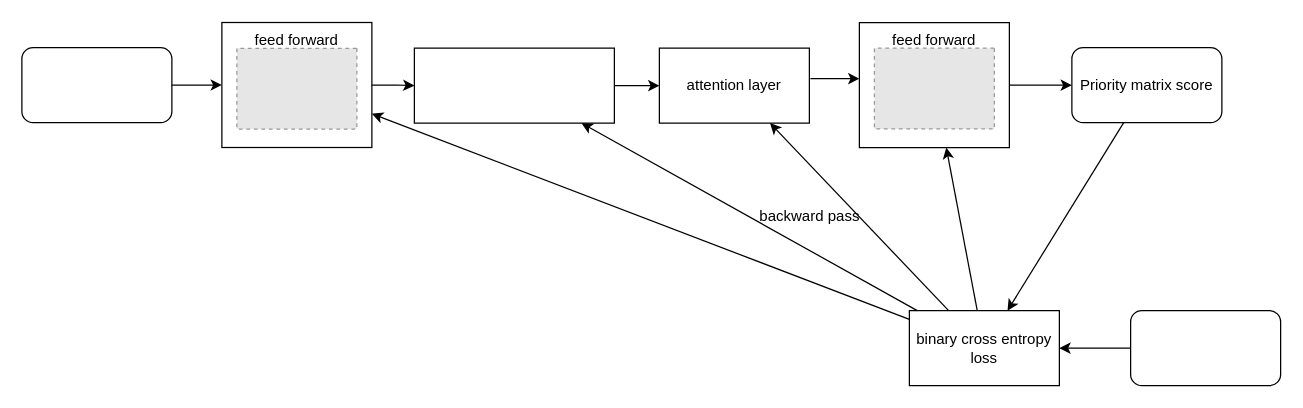
The diagram is 1303 pixels wide and 408 high, and some of its shapes have lost their labels. Grey dashed boxes stand in for pictures. The centre of each missing label's shape, as x and y in pixels:
"attention-based GCN" belongs at [513,85].
"dag task" belongs at [96,84].
"ILP priority matrix" belongs at [1205,347].
